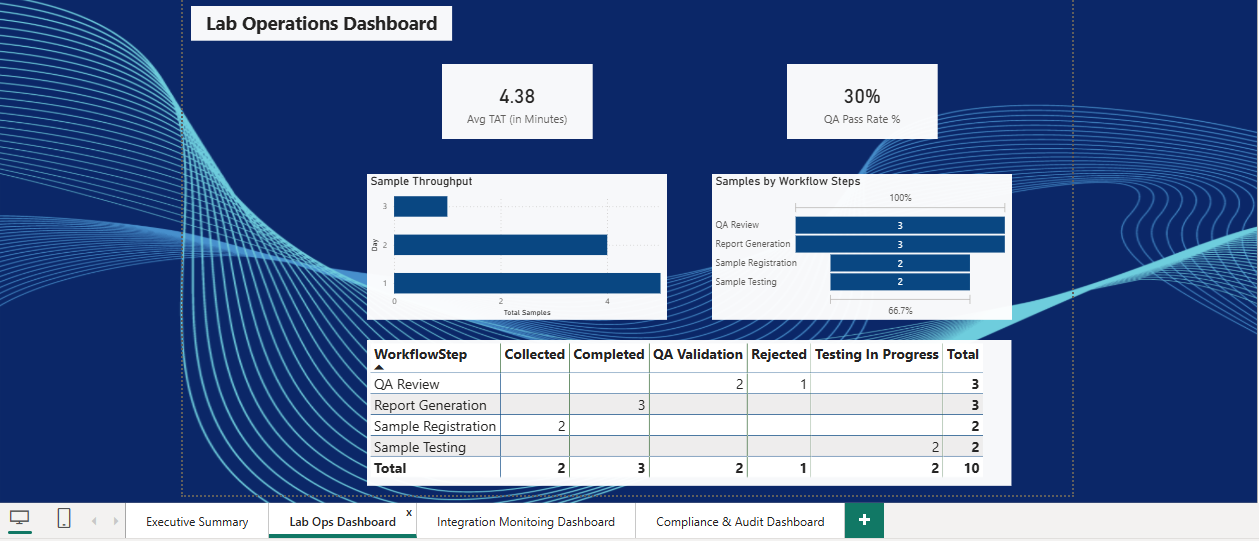

The dashboard page shown, as its layout file describes it:
{"tool":"powerbi","page":{"name":"Lab Ops Dashboard","canvas":[1280,720],"ordinal":1},"visuals":[{"type":"textbox","box":[11.1,15.3,376.4,50],"z":0},{"type":"card","fields":{"Values":["Samples.Avg TAT Minutes"]},"box":[373.3,100,216.7,108.3],"z":1000},{"type":"card","fields":{"Values":["Samples.QA Pass Rate %"]},"box":[870,100,216.7,108.3],"z":2000},{"type":"barChart","title":"Sample Throughput","fields":{"Category":["Samples.Timestamp.Variation.Date Hierarchy.Day"],"Y":["Samples.Total Samples"]},"box":[265,258.3,431.7,210],"z":3000},{"type":"funnel","title":"Samples by Workflow Steps","fields":{"Category":["Samples.WorkflowStep"],"Y":["Samples.Total Samples"]},"box":[761.7,258.3,431.7,210],"z":4000},{"type":"pivotTable","title":"Samples by Workflow Steps","fields":{"Rows":["Samples.WorkflowStep"],"Values":["Samples.Total Samples"],"Columns":["Samples.SampleStatus"]},"box":[265,496.7,928.3,210],"z":5000}]}

Visuals, with their boxes on the page's 1280x720 design canvas (x1, y1, x2, y2). These are canvas units, not pixel positions in the 1259x541 screenshot, which may show the page scaled, cropped or inside an application window:
textbox: (x1=11, y1=15, x2=388, y2=65)
card - Samples.Avg TAT Minutes: (x1=373, y1=100, x2=590, y2=208)
card - Samples.QA Pass Rate %: (x1=870, y1=100, x2=1087, y2=208)
"Sample Throughput" barChart: (x1=265, y1=258, x2=697, y2=468)
"Samples by Workflow Steps" funnel: (x1=762, y1=258, x2=1193, y2=468)
"Samples by Workflow Steps" pivotTable: (x1=265, y1=497, x2=1193, y2=707)
